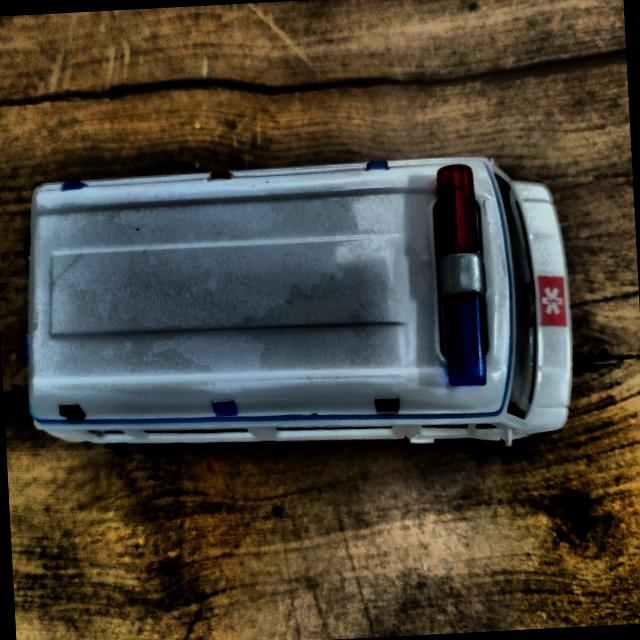Ambulance: (14, 143, 582, 488)
